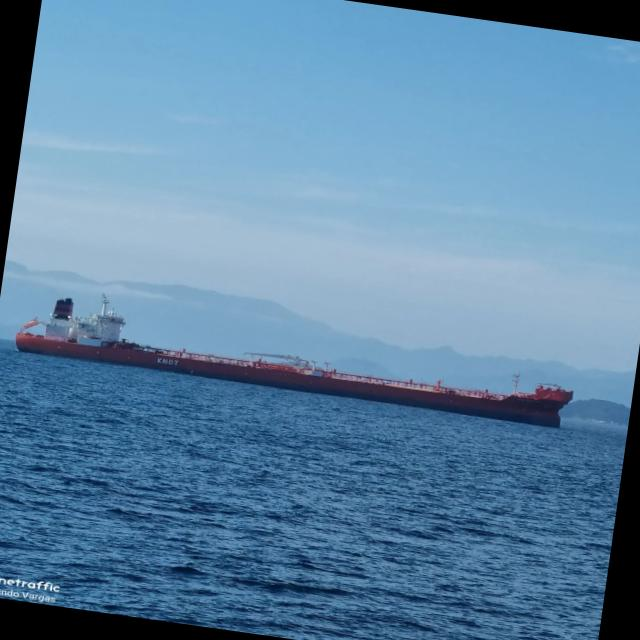Tanker: (16, 295, 573, 427)
